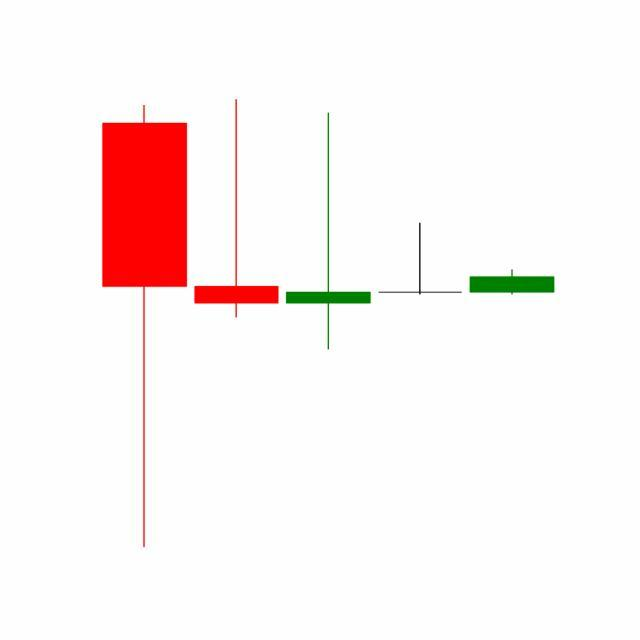Gravestone Doji: (374, 223, 468, 297)
